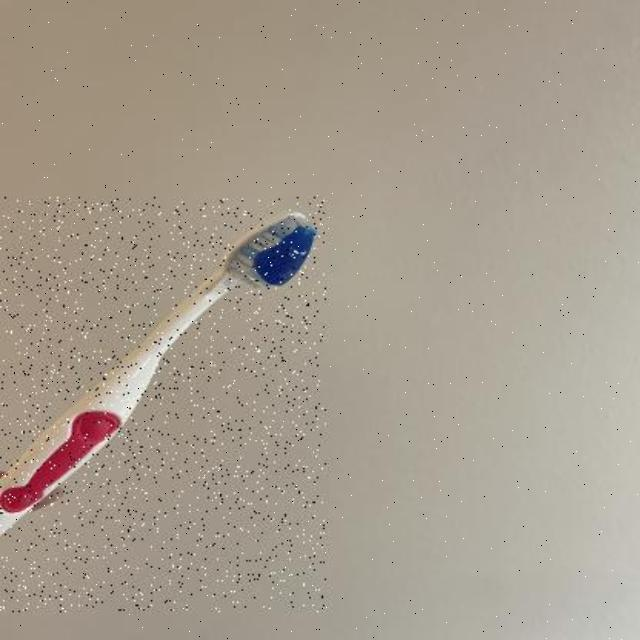toothbrush: (0, 198, 326, 612)
